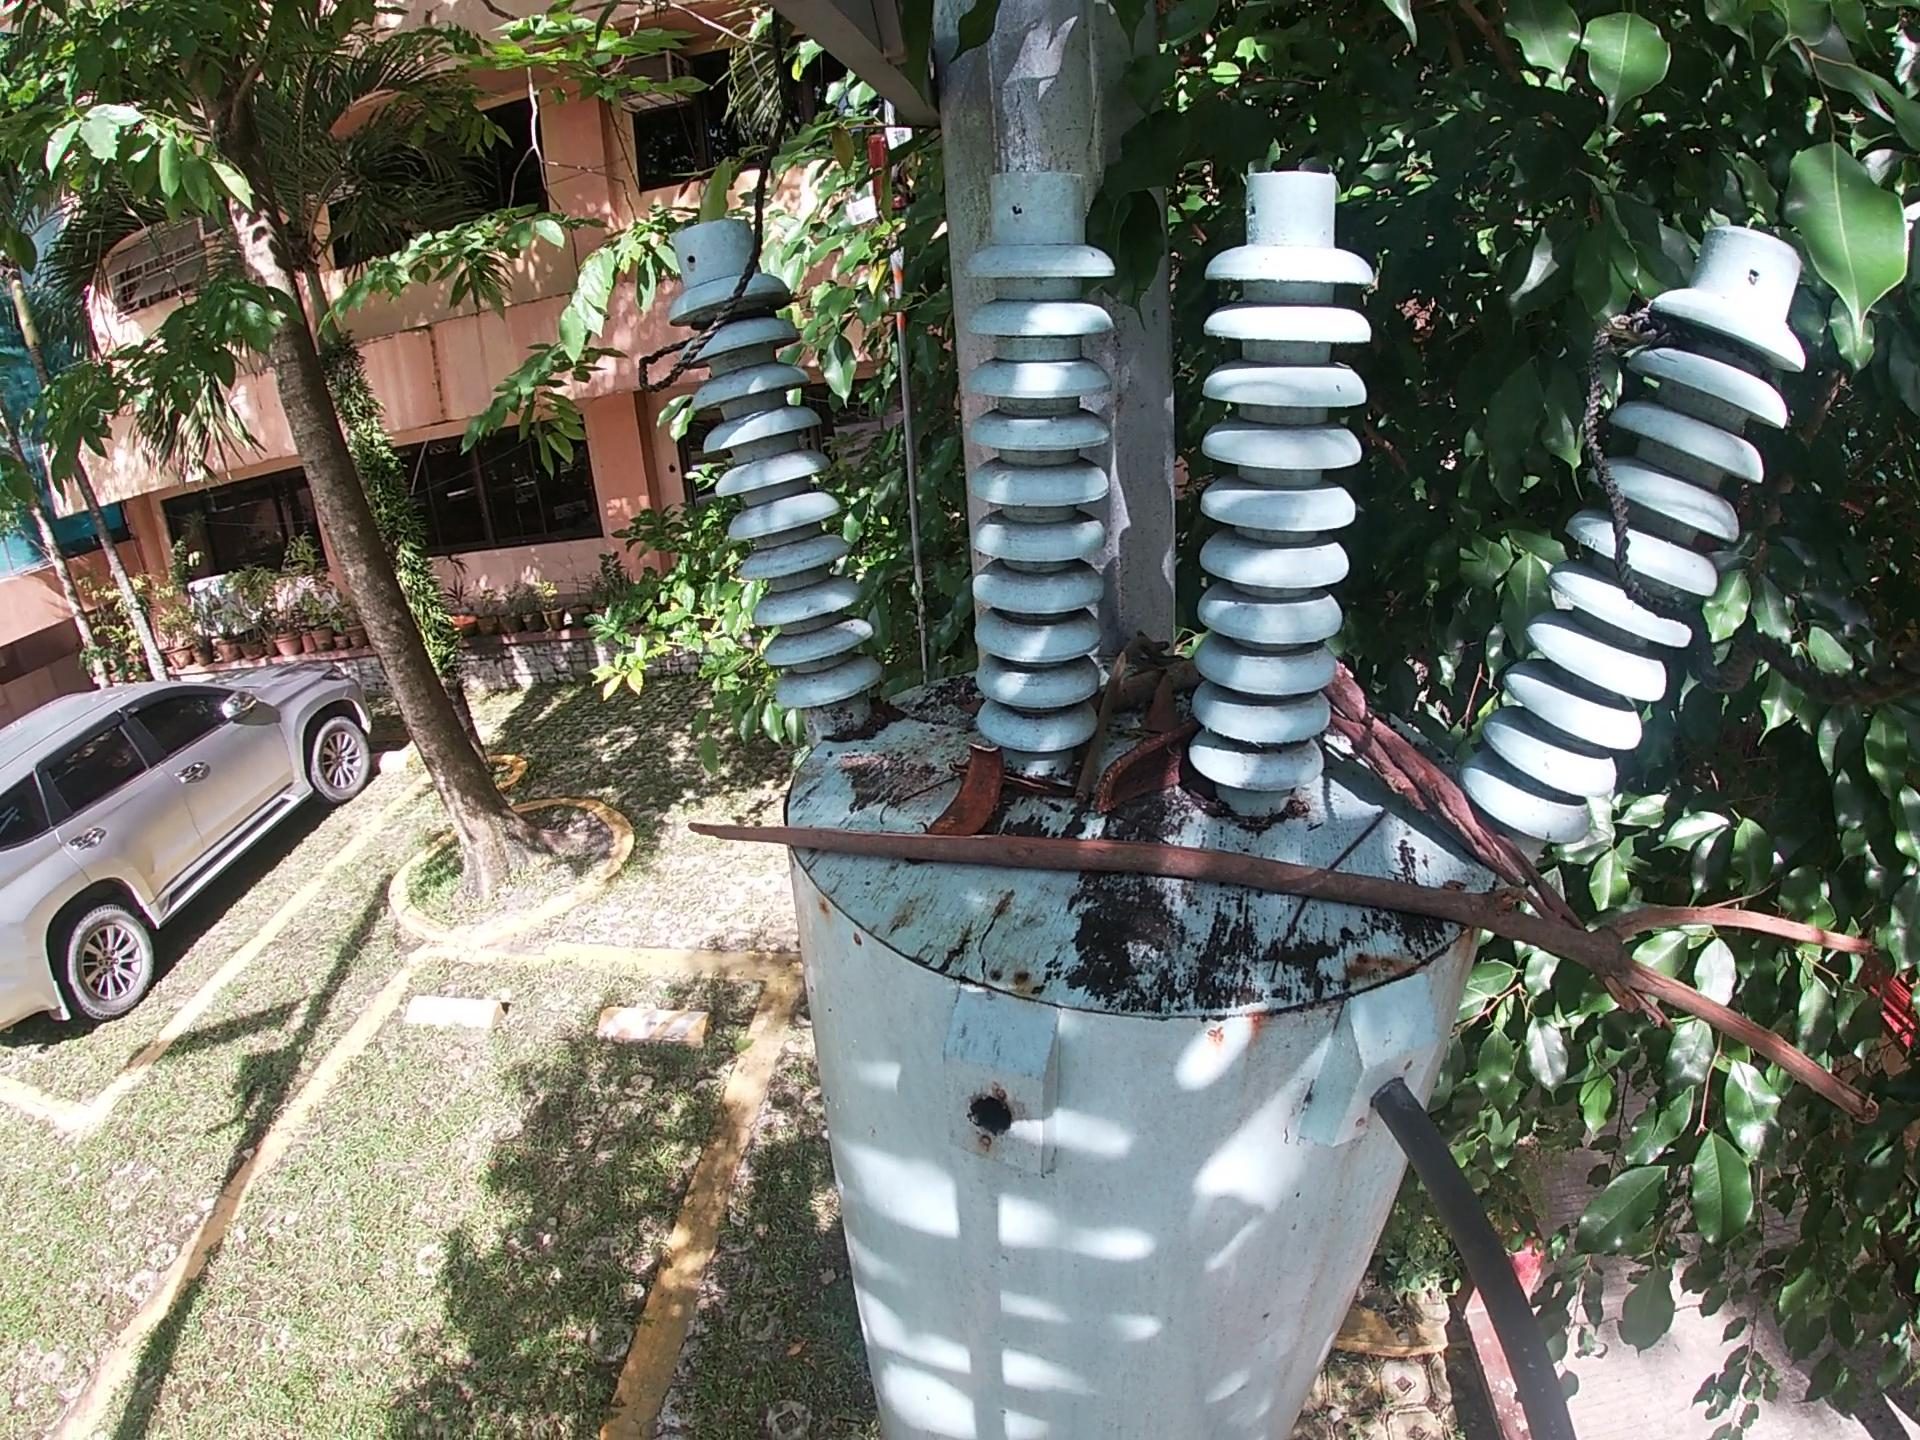mahogany fruit: (1079, 738, 1191, 821), (925, 732, 996, 832)
tree branch: (674, 812, 1878, 1153), (1312, 666, 1569, 929), (1244, 796, 1392, 992), (1075, 619, 1146, 796), (1096, 658, 1206, 717), (875, 765, 957, 824), (1002, 768, 1067, 806), (1146, 672, 1181, 734)
